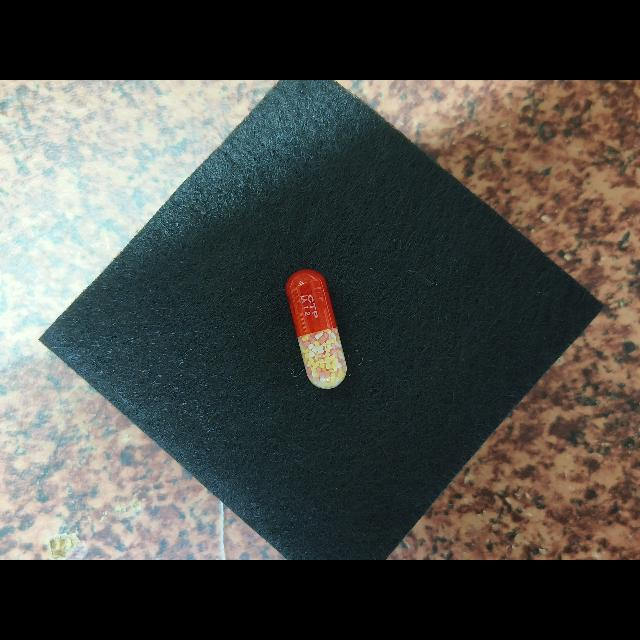Intact Capsule: (286, 269, 347, 389)
